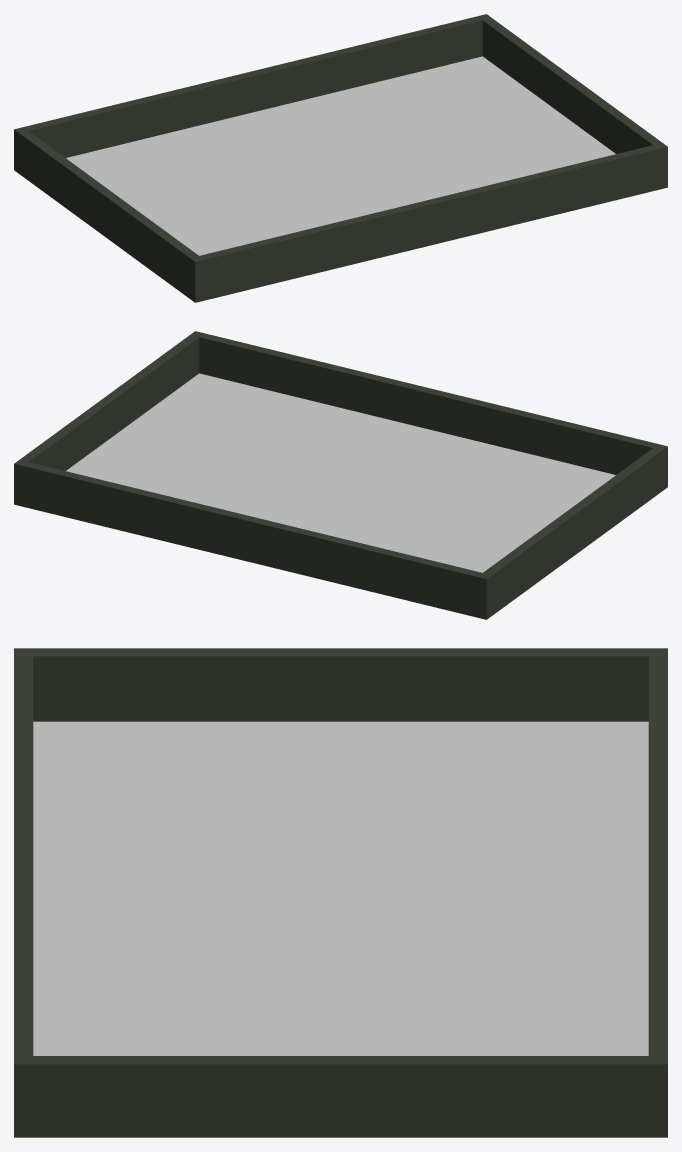
The model's file is MAPA_vacio.obj.
3 renders of one model, top to bottom at view 1: azimuth 30°, elevation 25°; view 2: azimuth 150°, elevation 25°; view 3: azimuth 270°, elevation 25°, orthographic. The views are drawn at different scales.
Visible parts, largest first — view 1: Plane, Cube, Cube.001, Cube.002, Cube.003; view 2: Plane, Cube.001, Cube, Cube.002, Cube.003; view 3: Plane, Cube.003, Cube.002, Cube, Cube.001.
Boxes of the visible parts, x1=… form: Plane: x1=66, y1=56, x2=615, y2=255; Cube: x1=190, y1=143, x2=667, y2=302; Cube.001: x1=14, y1=14, x2=491, y2=173; Cube.002: x1=19, y1=131, x2=198, y2=298; Cube.003: x1=482, y1=18, x2=662, y2=153; Plane: x1=66, y1=373, x2=615, y2=572; Cube.001: x1=14, y1=460, x2=491, y2=619; Cube: x1=190, y1=331, x2=667, y2=490; Cube.002: x1=483, y1=448, x2=662, y2=615; Cube.003: x1=19, y1=335, x2=199, y2=470; Plane: x1=33, y1=721, x2=648, y2=1055; Cube.003: x1=33, y1=1056, x2=648, y2=1137; Cube.002: x1=33, y1=648, x2=648, y2=721; Cube: x1=14, y1=648, x2=33, y2=1137; Cube.001: x1=648, y1=648, x2=667, y2=1137.
Size of the model in its own units: 152 by 12.54 by 101.
